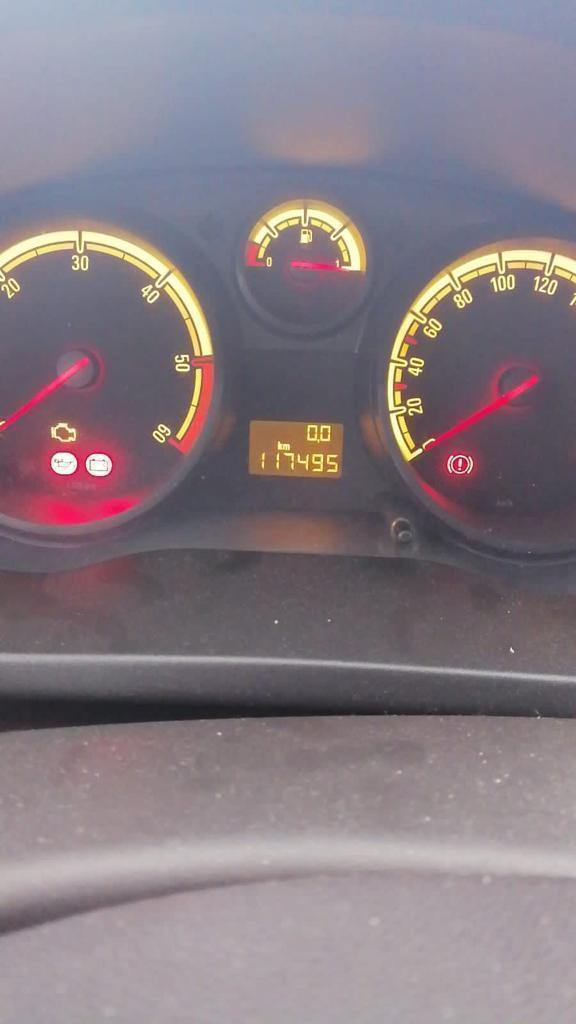,: (316, 438, 319, 443)
0: (319, 425, 331, 441), (306, 424, 317, 441)
1: (260, 451, 265, 470), (275, 452, 279, 470)
4: (297, 453, 309, 471)
5: (325, 454, 338, 472)
7: (283, 452, 294, 470)
9: (311, 453, 323, 471)
X: (277, 440, 283, 450), (282, 443, 290, 450)
odometer: (244, 416, 345, 480)
